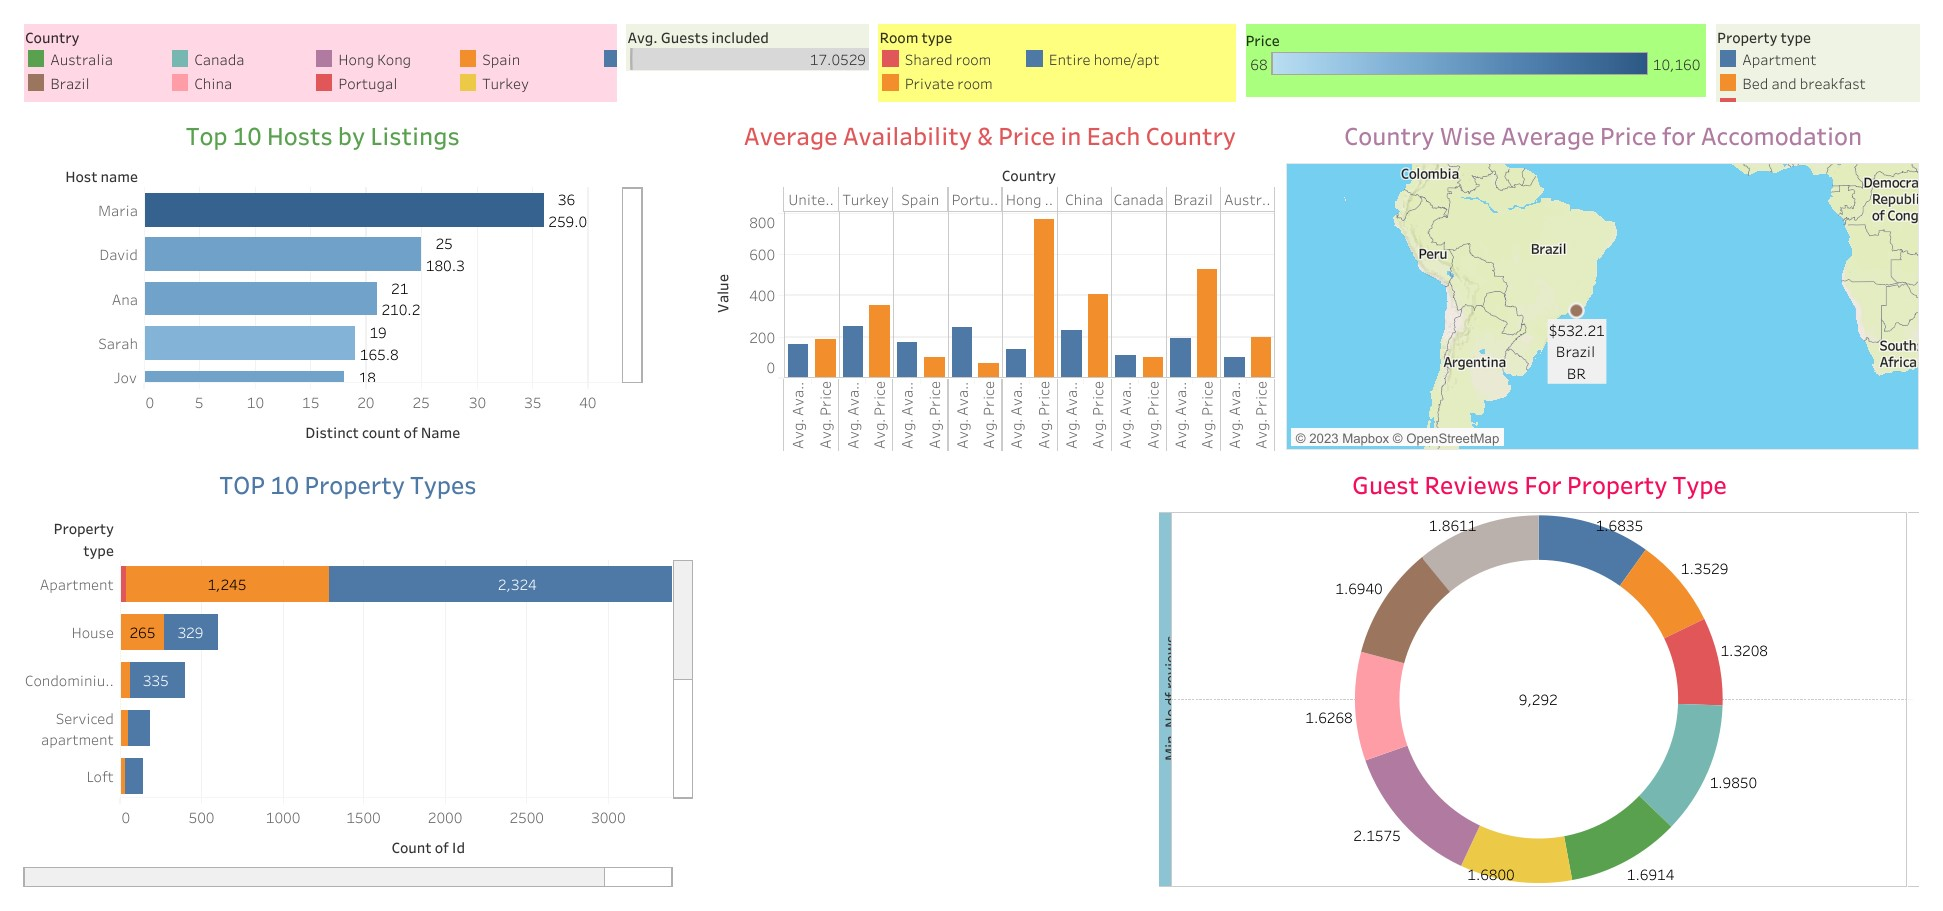

The dashboard page shown, as its layout file describes it:
{"tool":"tableau","page":{"name":"Dashboard 1","canvas":[1000,1000],"units":"permille","ordinal":0},"visuals":[{"type":"legend","title":"Country Wise Average Price","param":"[federated.1b19zki01w963n16qgcj90jntpea].[none:Country:nk]","box":[9.9,20.5,309.6,96]},{"type":"legend","title":"Guest Reviews for Property Type","param":"[federated.1b19zki01w963n16qgcj90jntpea].[avg:Guests_included:qk]","box":[319.5,20.5,129.7,96]},{"type":"legend","title":"Top 10 Property Types","param":"[federated.1b19zki01w963n16qgcj90jntpea].[none:Room_type:nk]","box":[449.2,20.5,189.1,96]},{"type":"legend","title":"Top 10 Hosts by Listings","param":"[federated.1b19zki01w963n16qgcj90jntpea].[sum:Price:qk]","box":[638.3,20.5,242,96]},{"type":"legend","title":"Guest Reviews for Property Type","param":"[federated.1b19zki01w963n16qgcj90jntpea].[none:Property_type:nk]","box":[880.3,20.5,109.8,96]},{"type":"worksheet","title":"Top 10 Hosts by Listings","mark":"Automatic","rows":["Host_name"],"cols":["Name"],"box":[9.9,116.5,349.7,384.1]},{"type":"worksheet","title":"Average Availability & Price in Each Country","mark":"Automatic","cols":["Country"],"box":[359.6,116.5,299.7,384.1]},{"type":"worksheet","title":"Country Wise Average Price","mark":"Automatic","rows":["Latitude"],"cols":["Longitude"],"box":[659.3,116.5,330.9,384.1]},{"type":"worksheet","title":"Top 10 Property Types","mark":"Automatic","rows":["Property_type"],"cols":["Id"],"box":[9.9,500.6,349.4,478.9]},{"type":"image","box":[359.3,500.6,234.6,478.9]},{"type":"worksheet","title":"Guest Reviews for Property Type","mark":"Pie","rows":["No_of_reviews","No_of_reviews"],"box":[593.8,500.6,396.3,478.9]}]}

Visuals, with their boxes on the dashboard's canvas, which has no fixed pixel size, in thousandths of its width and height (x1, y1, x2, y2). These are canvas units, not pixel positions in the 1943x911 screenshot, which may show the page scaled, cropped or inside an application window:
"Country Wise Average Price" legend: x1=10 y1=20 x2=320 y2=116
"Guest Reviews for Property Type" legend: x1=320 y1=20 x2=449 y2=116
"Top 10 Property Types" legend: x1=449 y1=20 x2=638 y2=116
"Top 10 Hosts by Listings" legend: x1=638 y1=20 x2=880 y2=116
"Guest Reviews for Property Type" legend: x1=880 y1=20 x2=990 y2=116
"Top 10 Hosts by Listings" worksheet: x1=10 y1=116 x2=360 y2=501
"Average Availability & Price in Each Country" worksheet: x1=360 y1=116 x2=659 y2=501
"Country Wise Average Price" worksheet: x1=659 y1=116 x2=990 y2=501
"Top 10 Property Types" worksheet: x1=10 y1=501 x2=359 y2=980
image: x1=359 y1=501 x2=594 y2=980
"Guest Reviews for Property Type" worksheet (Pie marks): x1=594 y1=501 x2=990 y2=980
